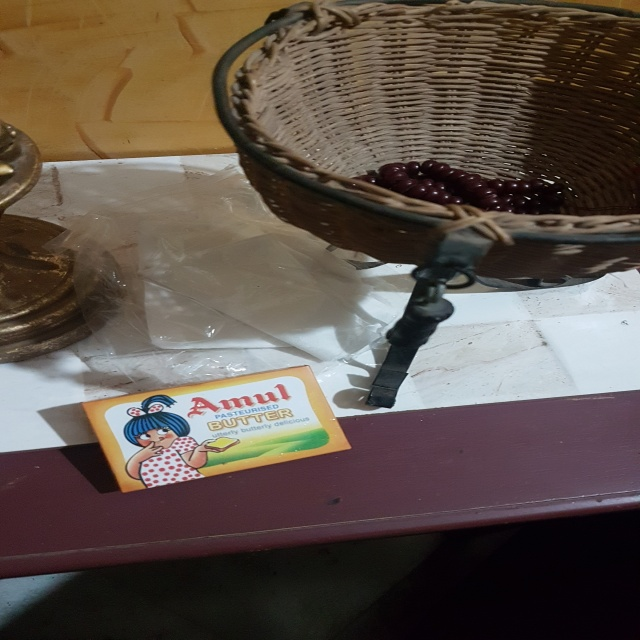butter: (84, 364, 355, 494)
